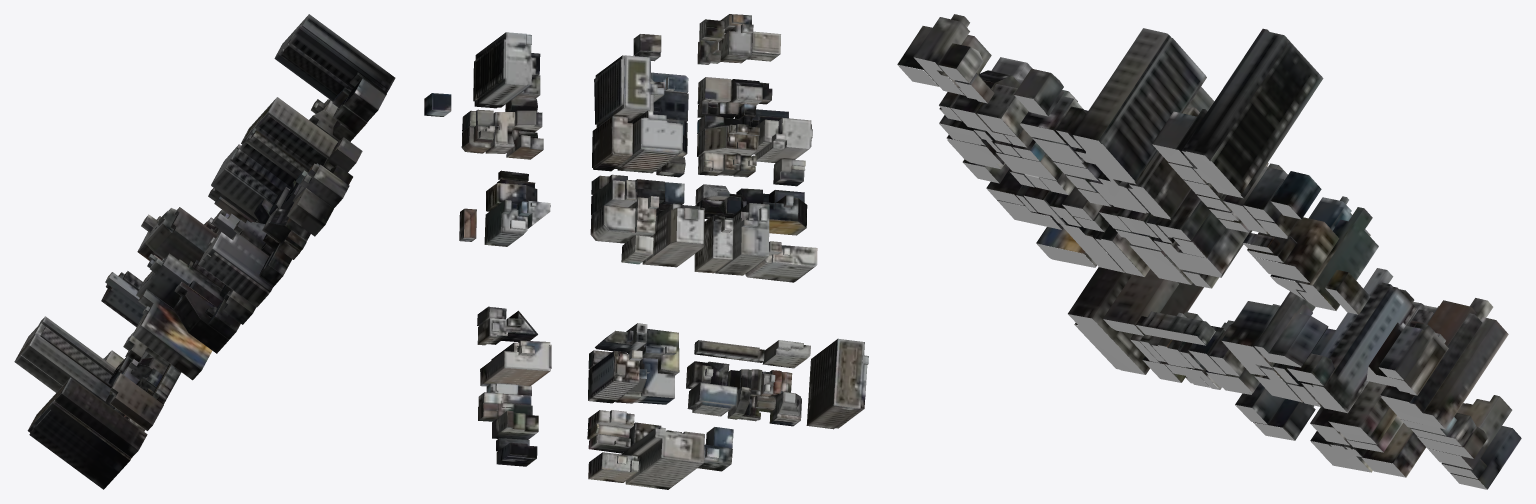
3 views of the same model, side by side, from view 1: azimuth 30°, elevation 25°; view 2: azimuth 150°, elevation 25°; view 3: azimuth 270°, elevation 25° (orthographic). The views are drawn at different scales.
Bounding box in the file's own units: 162 × 155 × 159.
Materials: 2 (1 with a texture image).
